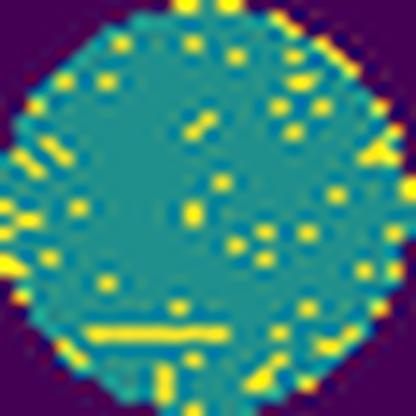Scratch: (84, 299, 254, 365)
